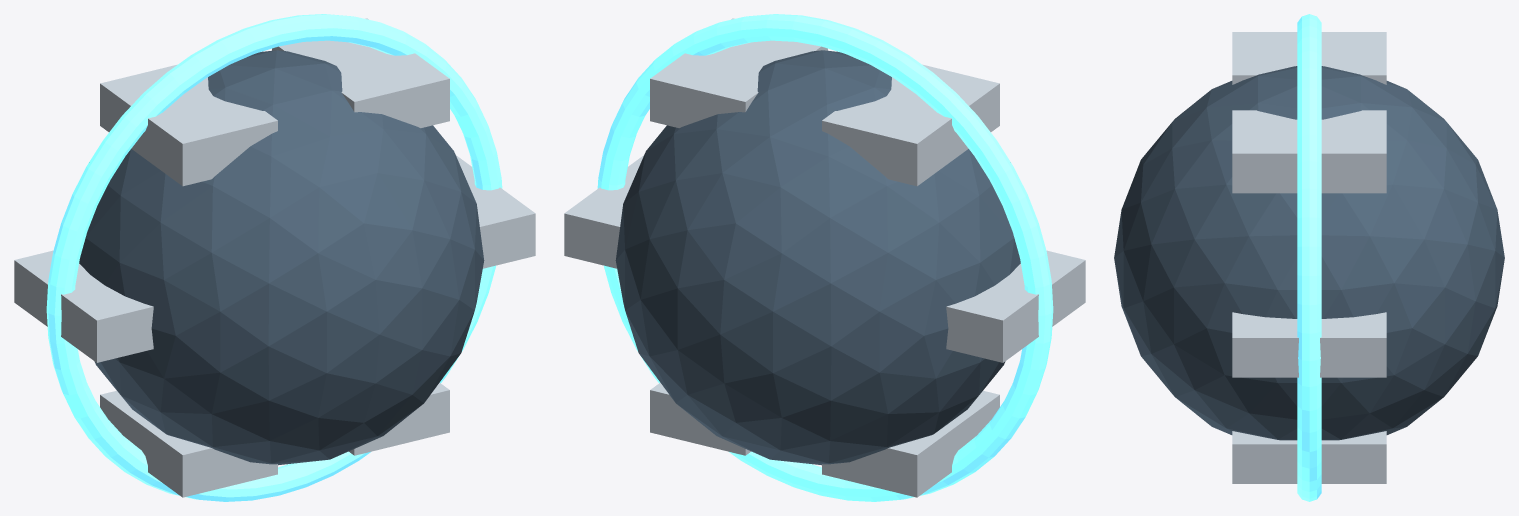
3 renders of one model, left to right at view 1: azimuth 30°, elevation 25°; view 2: azimuth 150°, elevation 25°; view 3: azimuth 270°, elevation 25°, orthographic. The views are drawn at different scales.
Parts seen in each view (by area): view 1: Core0, FieldRing8, Facet4, Facet5, Facet3, Facet6, Facet2, Facet7; view 2: Core0, FieldRing8, Facet4, Facet5, Facet3, Facet6, Facet2, Facet7; view 3: Core0, FieldRing8, Facet3, Facet2, Facet7, Facet4.
Boxes of the visible parts, x1,y1,x2,y2 form: Core0: (79,50,484,465); FieldRing8: (46,14,502,501); Facet4: (100,64,277,186); Facet5: (14,250,153,362); Facet3: (272,18,449,128); Facet6: (100,390,277,497); Facet2: (456,155,535,268); Facet7: (349,382,449,455); Core0: (615,50,1020,465); FieldRing8: (597,14,1053,501); Facet4: (822,64,999,186); Facet5: (946,250,1085,362); Facet3: (650,18,827,128); Facet6: (822,390,999,497); Facet2: (564,155,643,268); Facet7: (650,382,750,455); Core0: (1114,66,1504,440); FieldRing8: (1297,14,1321,501); Facet3: (1232,110,1386,193); Facet2: (1232,312,1386,377); Facet7: (1232,431,1386,483); Facet4: (1232,32,1386,84).
Size of the model in its own units: 1.9 by 1.9 by 1.52.
